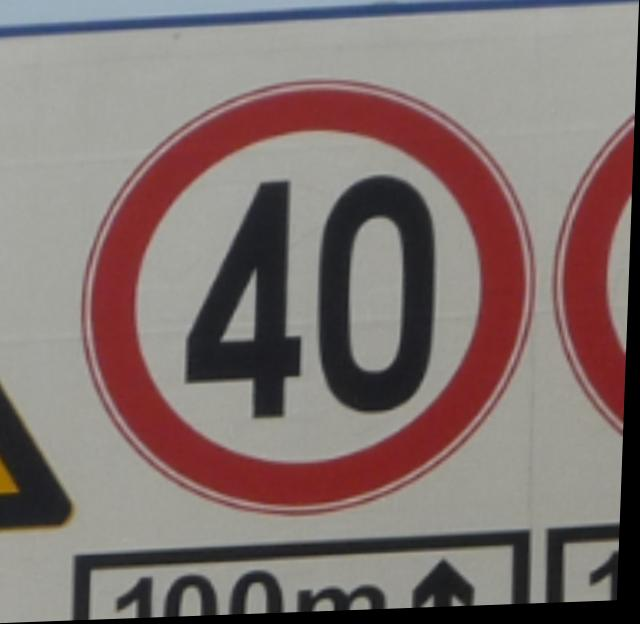limit40: (76, 63, 546, 528)
